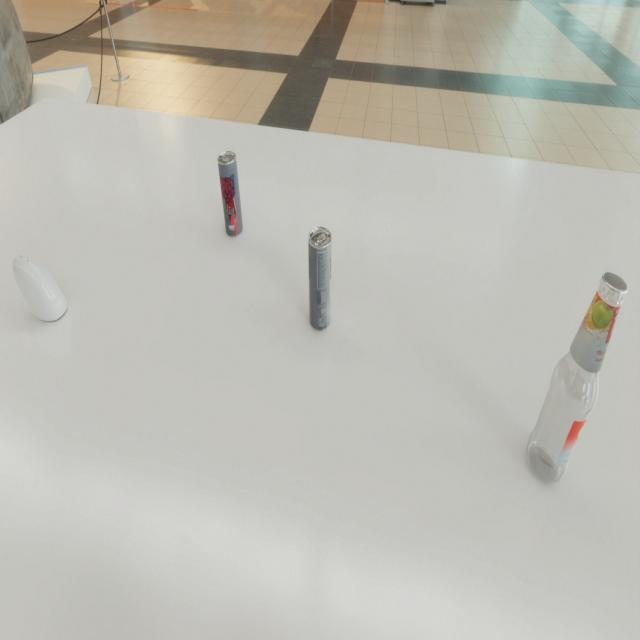Bottle: (526, 272, 628, 485)
Rita_zero_sugar: (308, 227, 332, 331), (217, 151, 243, 237)
Salt: (12, 255, 67, 321)
